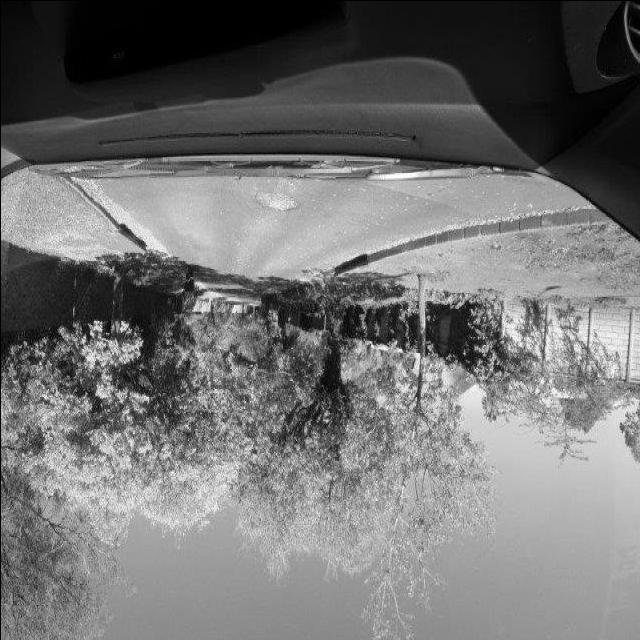lubang: (250, 190, 300, 216)
